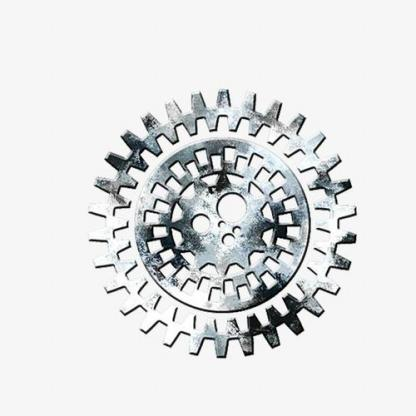FOD: (83, 83, 363, 365)
